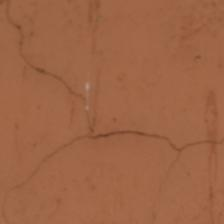Crack: (4, 128, 219, 192), (7, 4, 94, 135)
